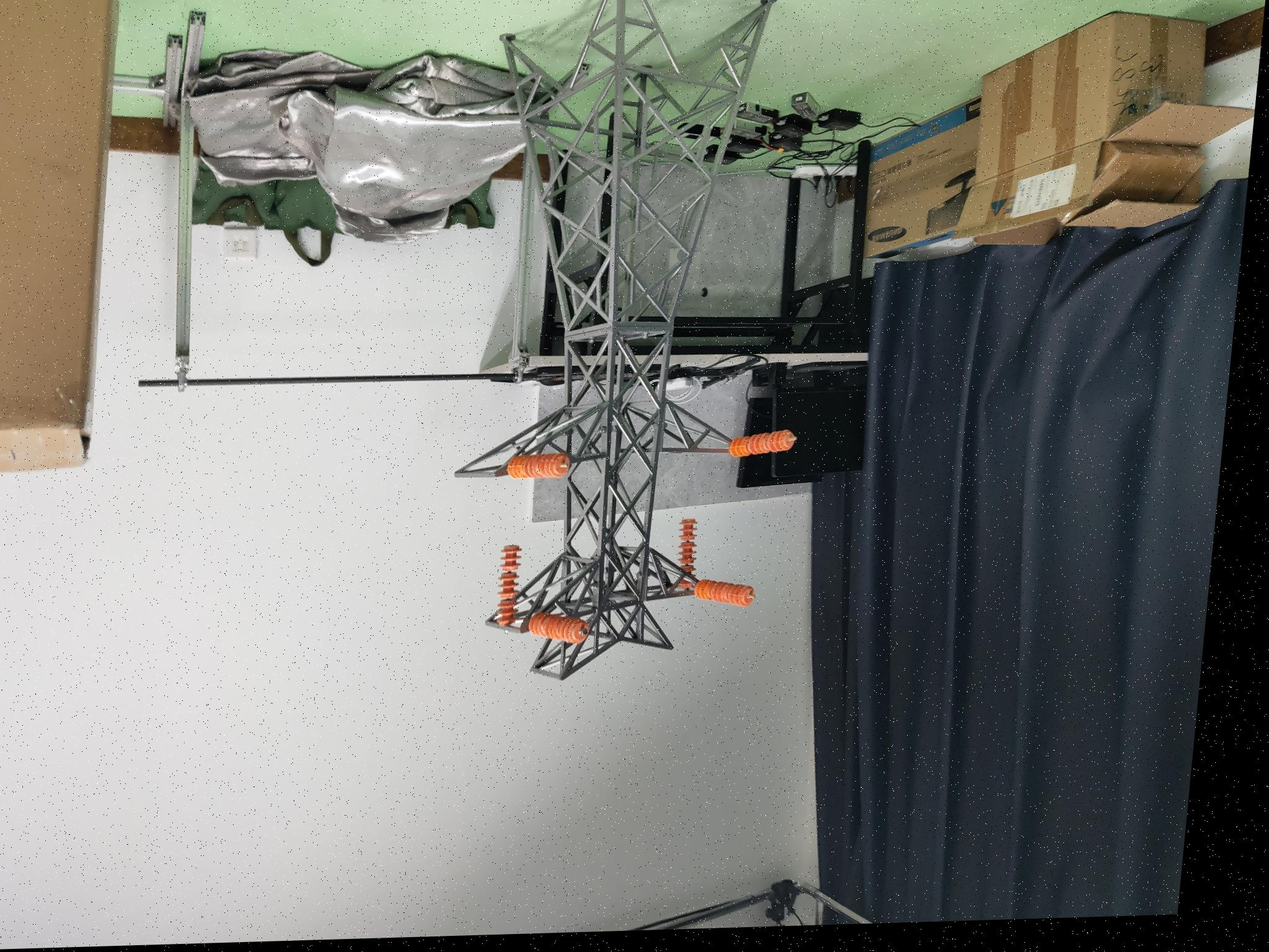tower: (435, 0, 776, 685)
